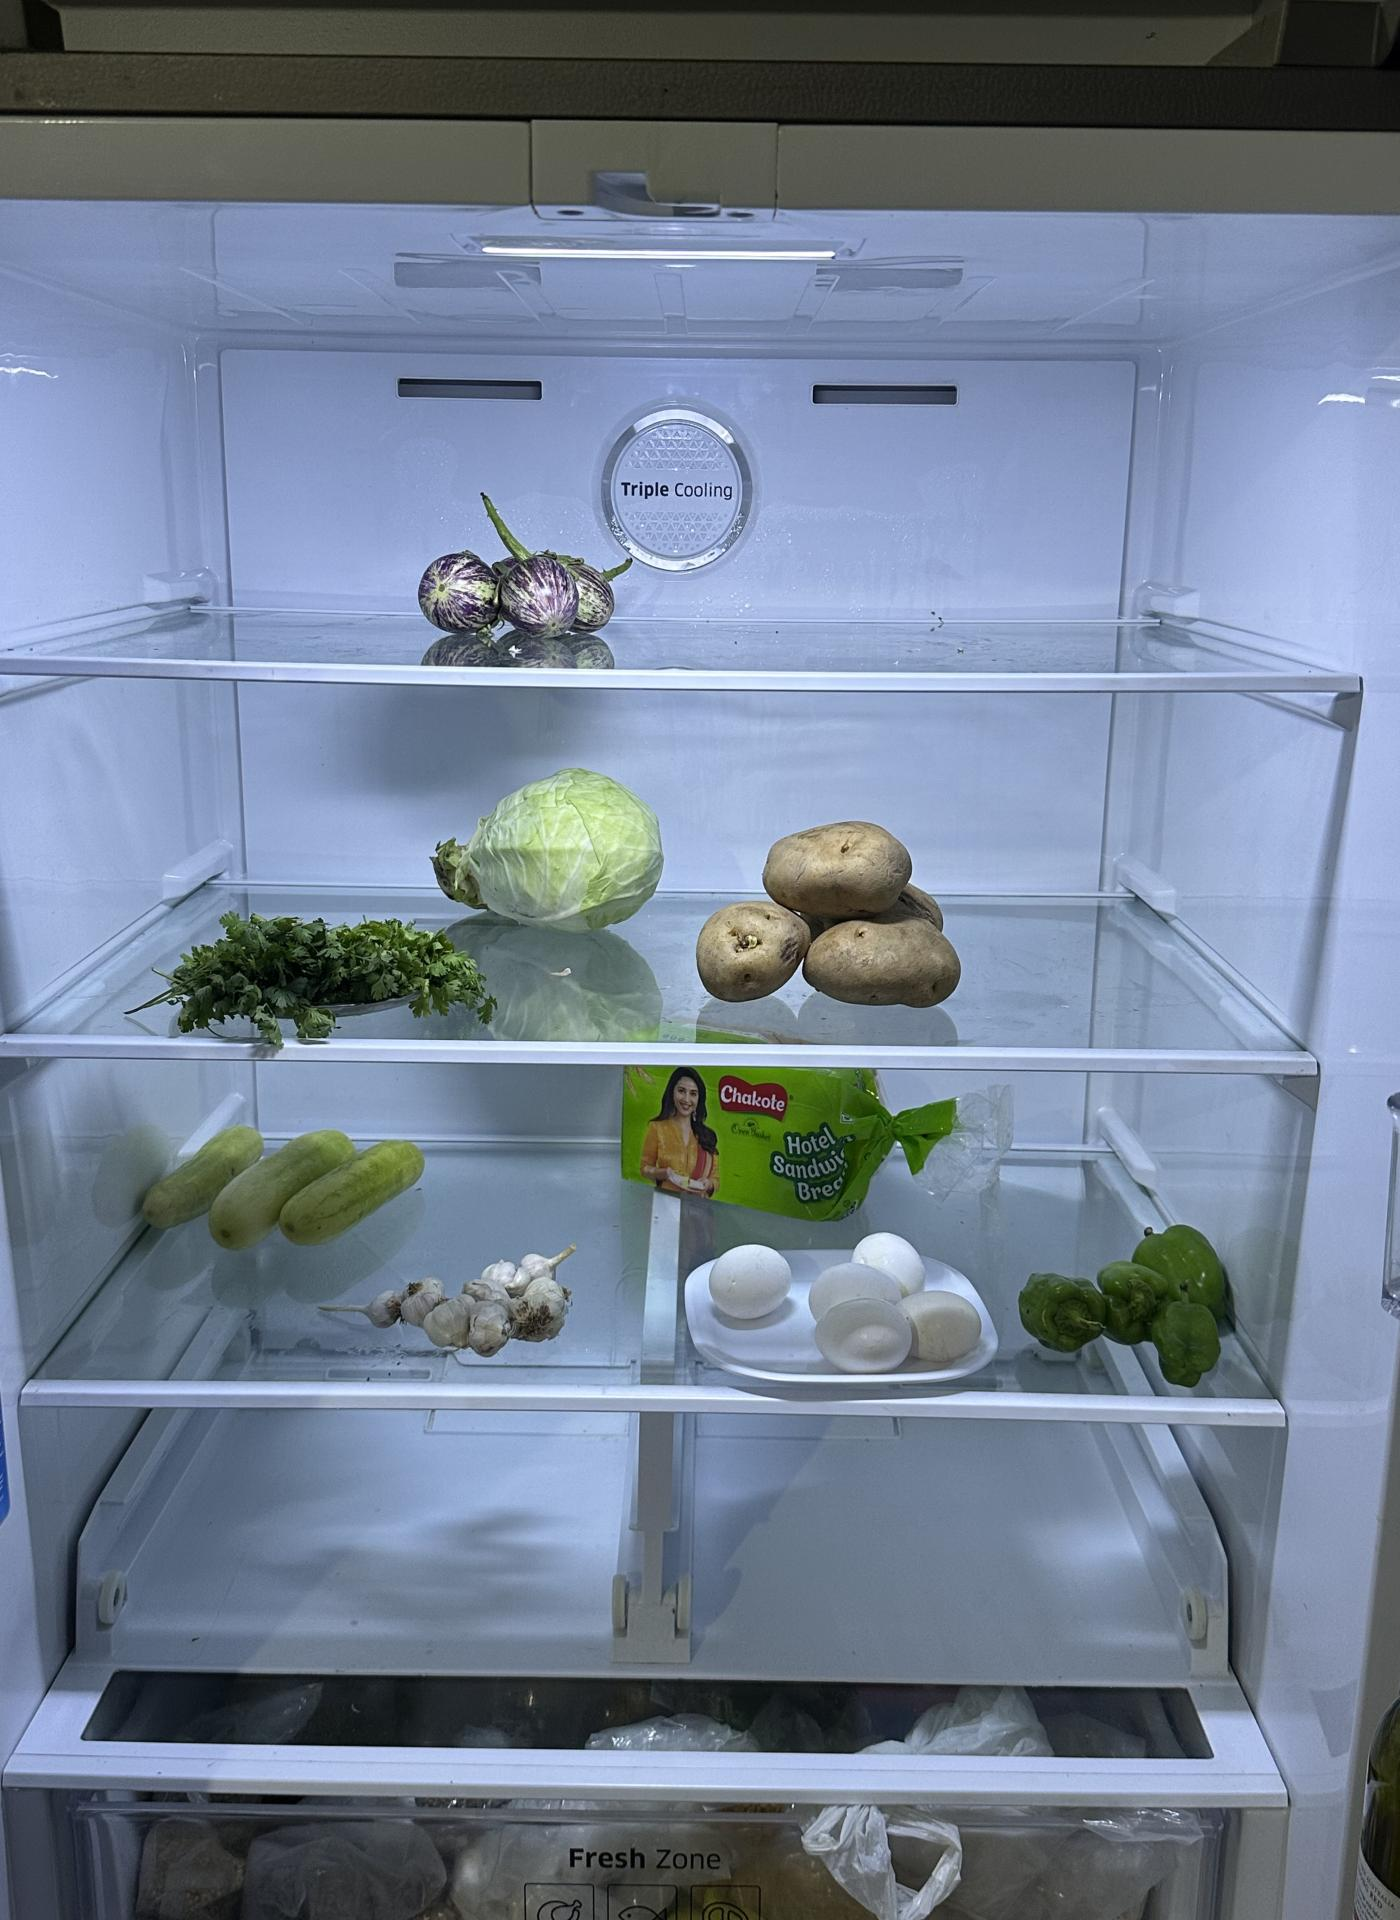bread: (626, 1057, 901, 1215)
brinjal: (417, 540, 620, 662)
cabbage: (441, 769, 668, 936)
capsicum: (1021, 1218, 1243, 1389)
coriander: (165, 902, 482, 1033)
cucumber: (130, 1128, 432, 1257)
egg: (710, 1230, 984, 1380)
garlic: (359, 1249, 576, 1362)
potato: (690, 824, 959, 1015)
